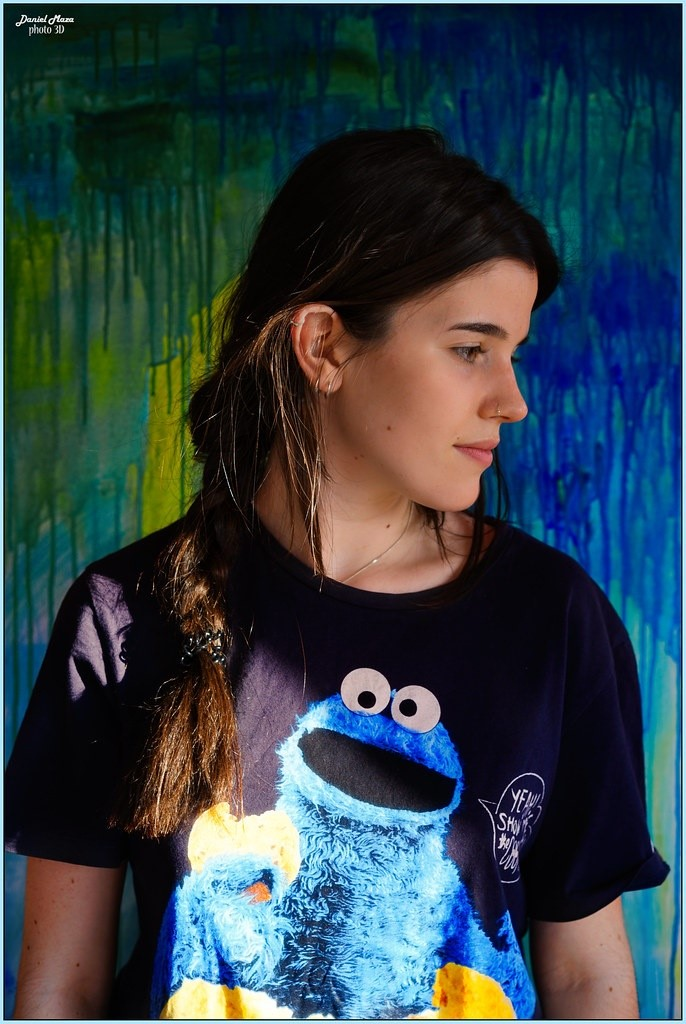face_no_mask: (247, 131, 546, 510)
